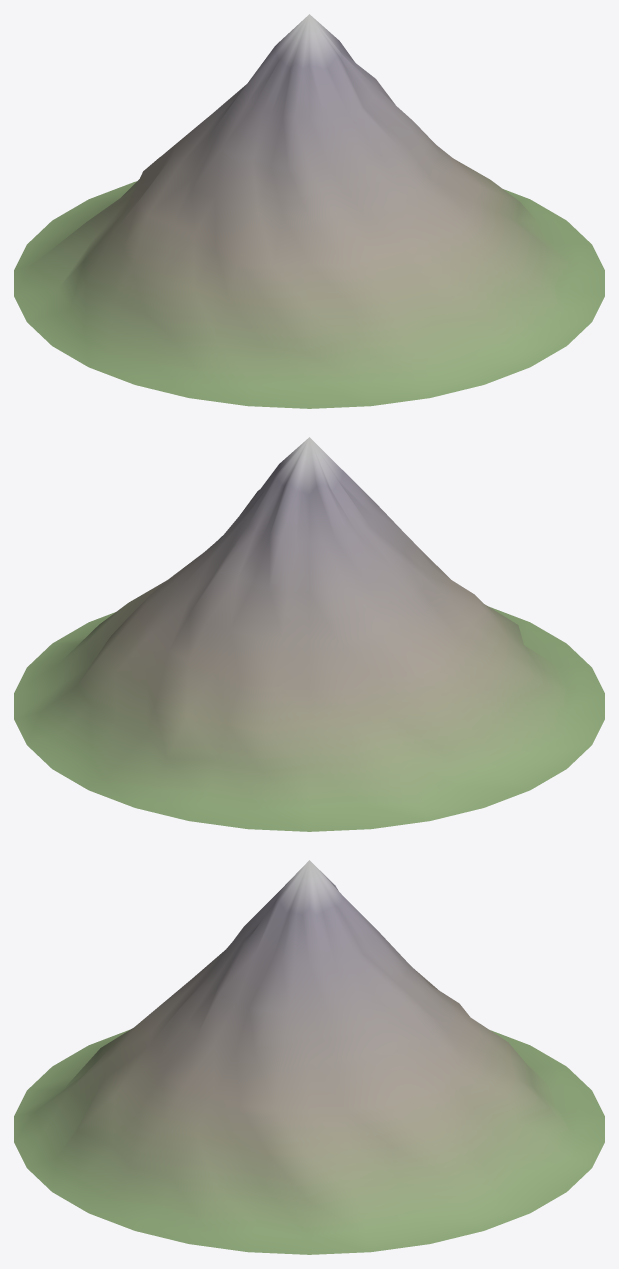
Rendered from mountain_c.glb.
The picture shows the model from 3 angles, top to bottom: view 1: azimuth 30°, elevation 25°; view 2: azimuth 150°, elevation 25°; view 3: azimuth 270°, elevation 25°; orthographic projection.
Parts seen in each view (by area): view 1: mountain_c_terrain; view 2: mountain_c_terrain; view 3: mountain_c_terrain.
Boxes of the visible parts, left/top/right/bottom form: mountain_c_terrain: left=14, top=14, right=604, bottom=408; mountain_c_terrain: left=14, top=437, right=604, bottom=831; mountain_c_terrain: left=14, top=860, right=604, bottom=1254.
Size of the model in its own units: 2 by 1 by 1.99.
